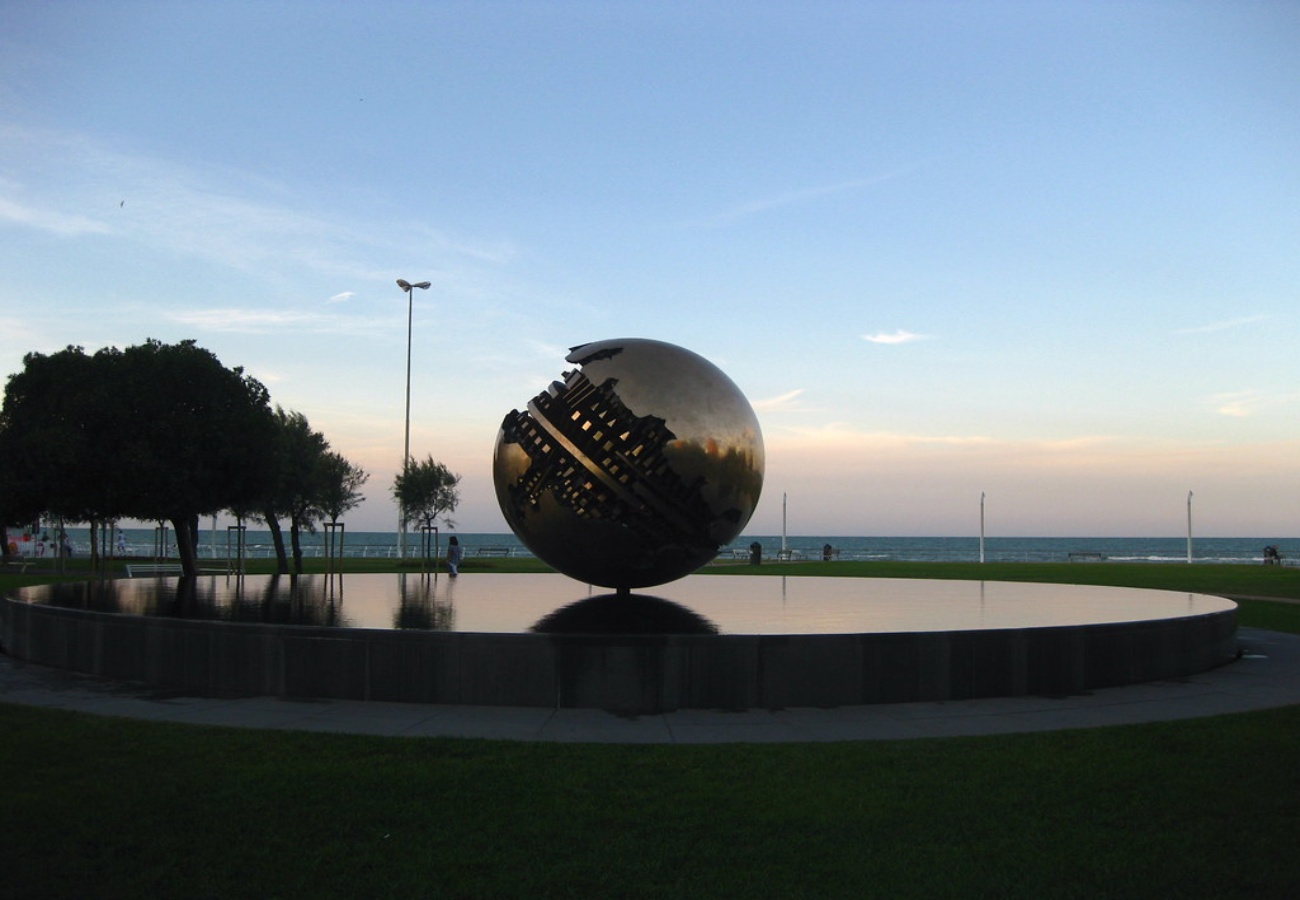Palla di Pomodoro: (491, 338, 767, 590)
